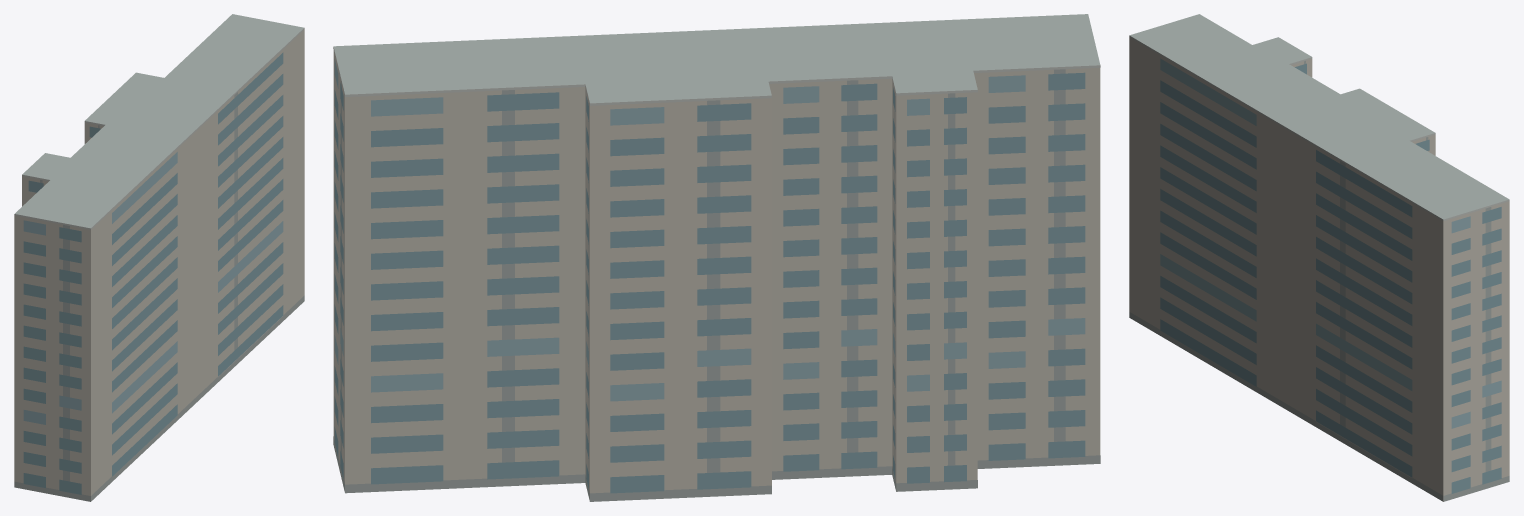
The model's file is residential-c32af5ef-f2e1-4deb-bfc4-50ee834e9b5f.glb.
3 renders of one model, left to right at view 1: azimuth 30°, elevation 25°; view 2: azimuth 150°, elevation 25°; view 3: azimuth 270°, elevation 25°, orthographic. The views are drawn at different scales.
Parts seen in each view (by area): view 1: residential-c32af5ef-f2e1-4deb-bfc4-50ee834e9b5f.tmp; view 2: residential-c32af5ef-f2e1-4deb-bfc4-50ee834e9b5f.tmp; view 3: residential-c32af5ef-f2e1-4deb-bfc4-50ee834e9b5f.tmp.
Part boxes in pixels (bbox=[...]): residential-c32af5ef-f2e1-4deb-bfc4-50ee834e9b5f.tmp: bbox=[14, 14, 304, 501]; residential-c32af5ef-f2e1-4deb-bfc4-50ee834e9b5f.tmp: bbox=[333, 14, 1100, 501]; residential-c32af5ef-f2e1-4deb-bfc4-50ee834e9b5f.tmp: bbox=[1129, 14, 1509, 501].
Size of the model in its own units: 61.94 by 39.65 by 48.42.
